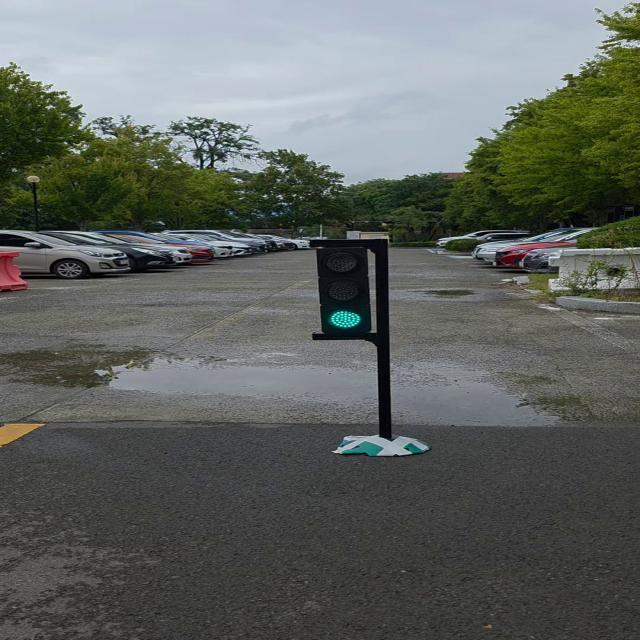green: (321, 242, 378, 336)
